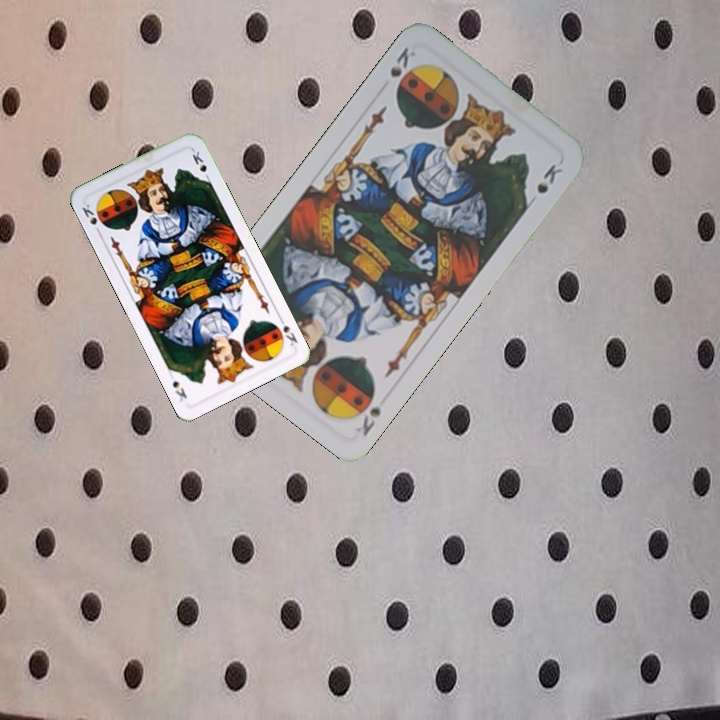SK: (349, 385, 393, 439), (386, 42, 419, 80), (78, 200, 104, 238), (274, 312, 300, 348)
